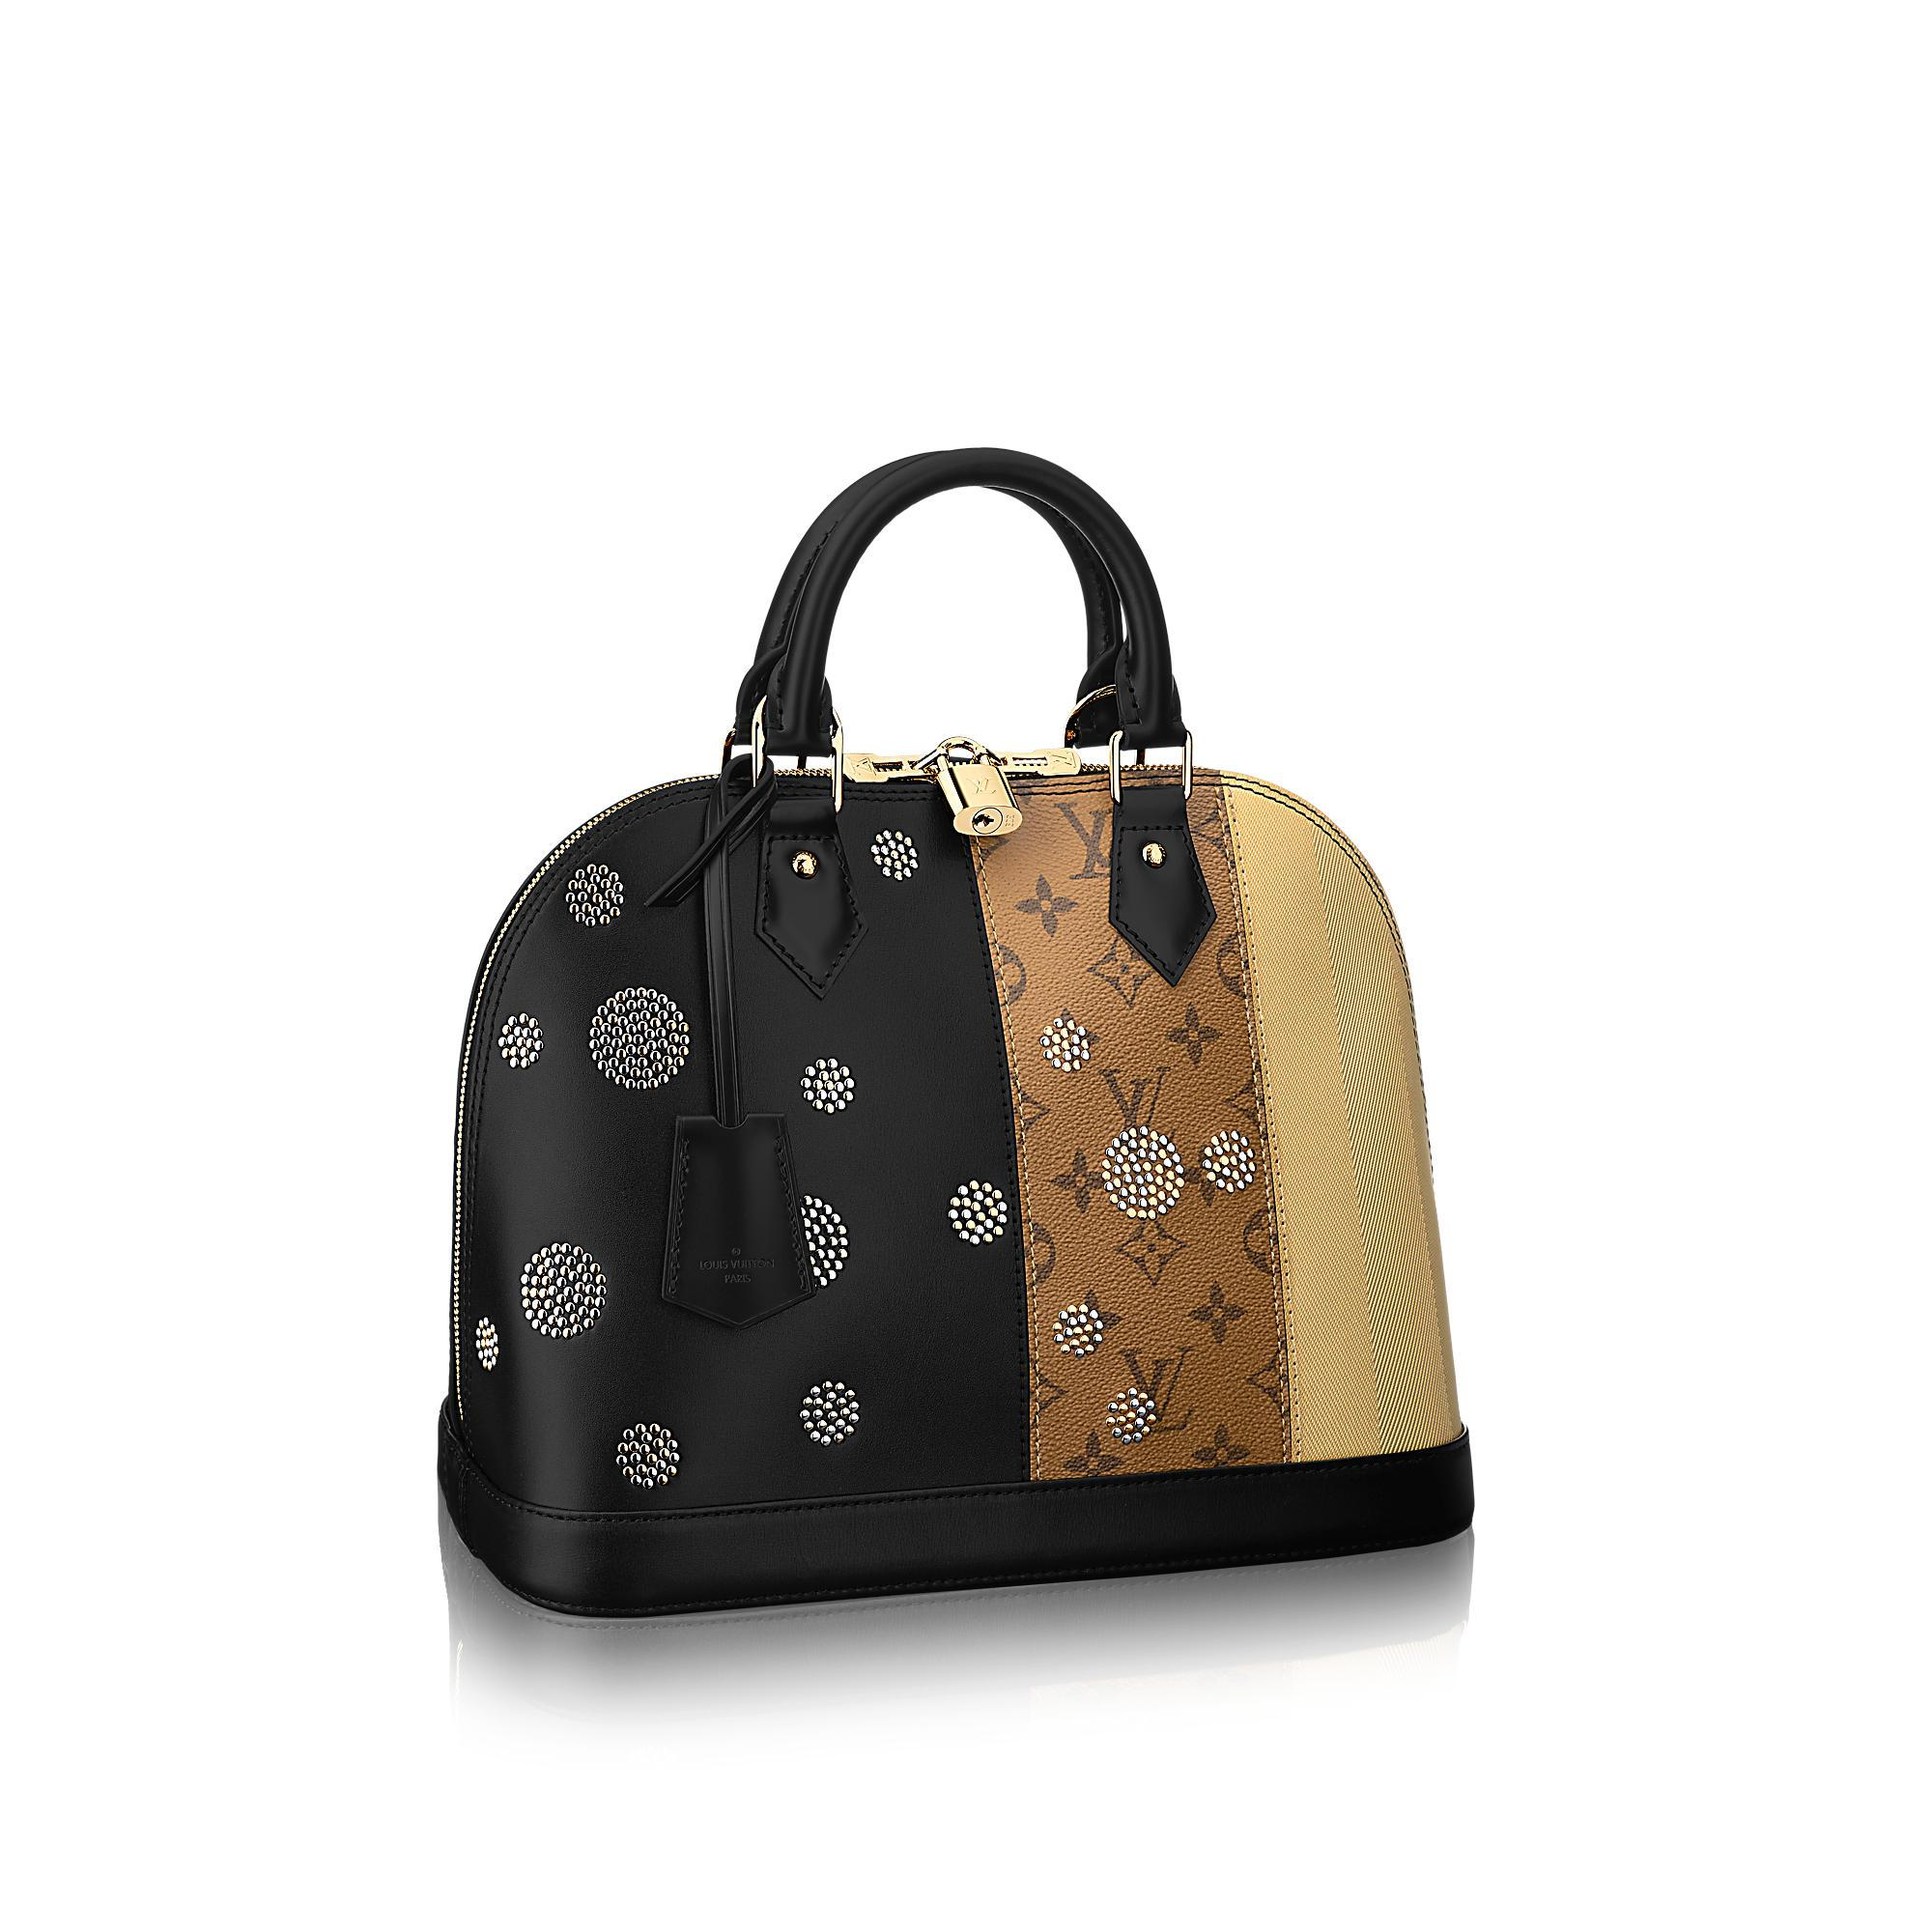LOUIS-VUITTON: (1115, 1343, 1196, 1433), (1095, 1063, 1173, 1145), (1053, 796, 1118, 883), (968, 773, 993, 798)
